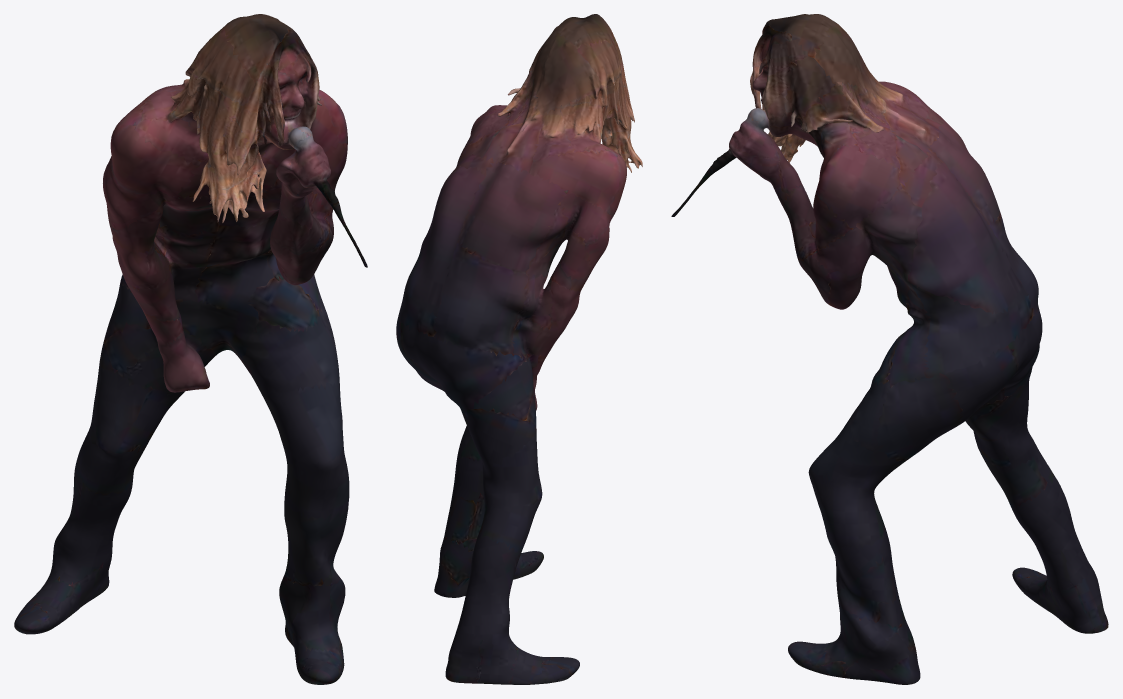
The model's file is Meshy_AI_Raw_Voltage_under_2MB.glb.
The picture shows the model from 3 angles, left to right: view 1: azimuth 30°, elevation 25°; view 2: azimuth 150°, elevation 25°; view 3: azimuth 270°, elevation 25°; orthographic projection. The views are drawn at different scales.
Bounding box in the file's own units: 0.728 × 1.9 × 1.22.
Materials: 1 (1 with a texture image).
